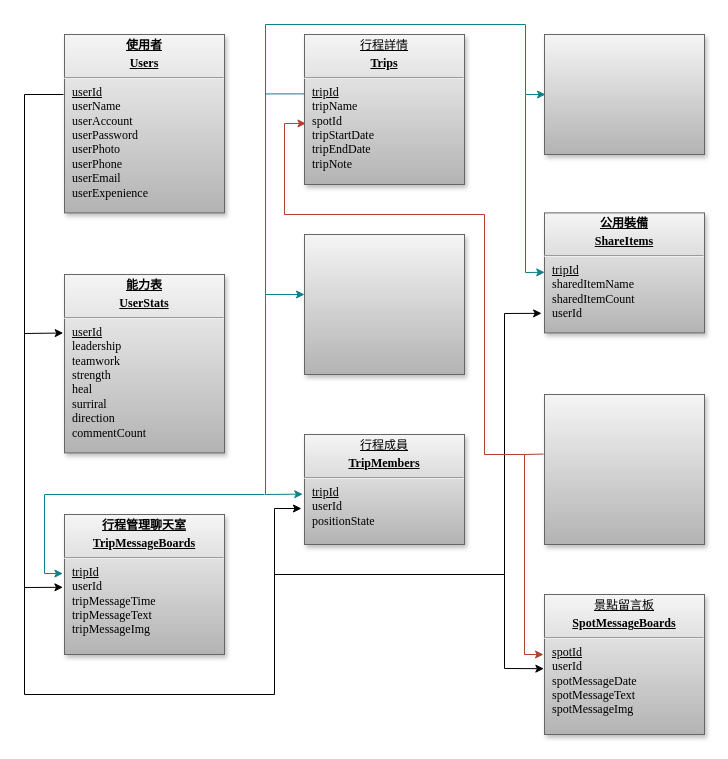
The diagram is 728 pixels wide and 759 high, and some of its shapes have lost their labels. Here are the shapes that lost their labels. From the top down, the centre of each, then its label:
the point at 625,96: 私人裝備 PrivateItems tripId privateItemName privateItemCount privateItemNote
the point at 385,306: 行程表 TripSchedules tripId day startTime endTime schedule
the point at 625,471: 景點 Spots spotId spotName spotCoordinate spotDetail spotImg spotArea
